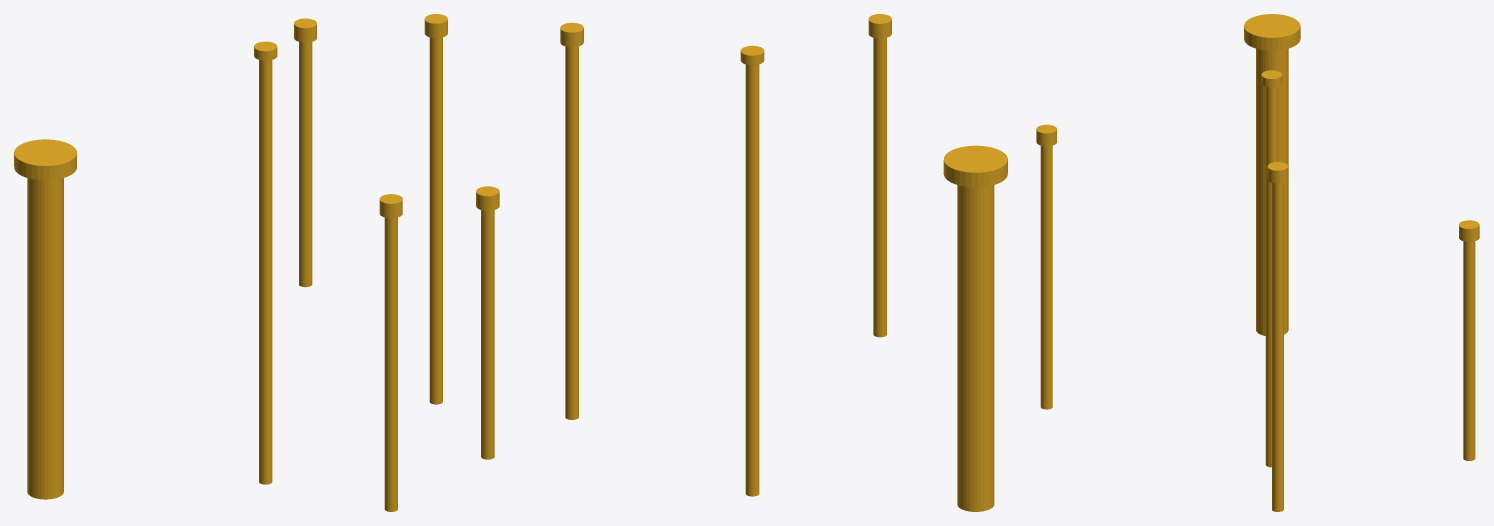
The model's file is gold_pilloty.fbx.
The picture shows the model from 3 angles, left to right: view 1: azimuth 30°, elevation 25°; view 2: azimuth 150°, elevation 25°; view 3: azimuth 270°, elevation 25°; orthographic projection. The views are drawn at different scales.
Visible parts, largest first — view 1: Cylinder.003; view 2: Cylinder.003; view 3: Cylinder.003.
Boxes of the visible parts, bbox=[...] form: Cylinder.003: bbox=[14, 14, 447, 511]; Cylinder.003: bbox=[476, 14, 1007, 511]; Cylinder.003: bbox=[1036, 14, 1479, 511].
Size of the model in its own units: 940 by 946 by 913.
